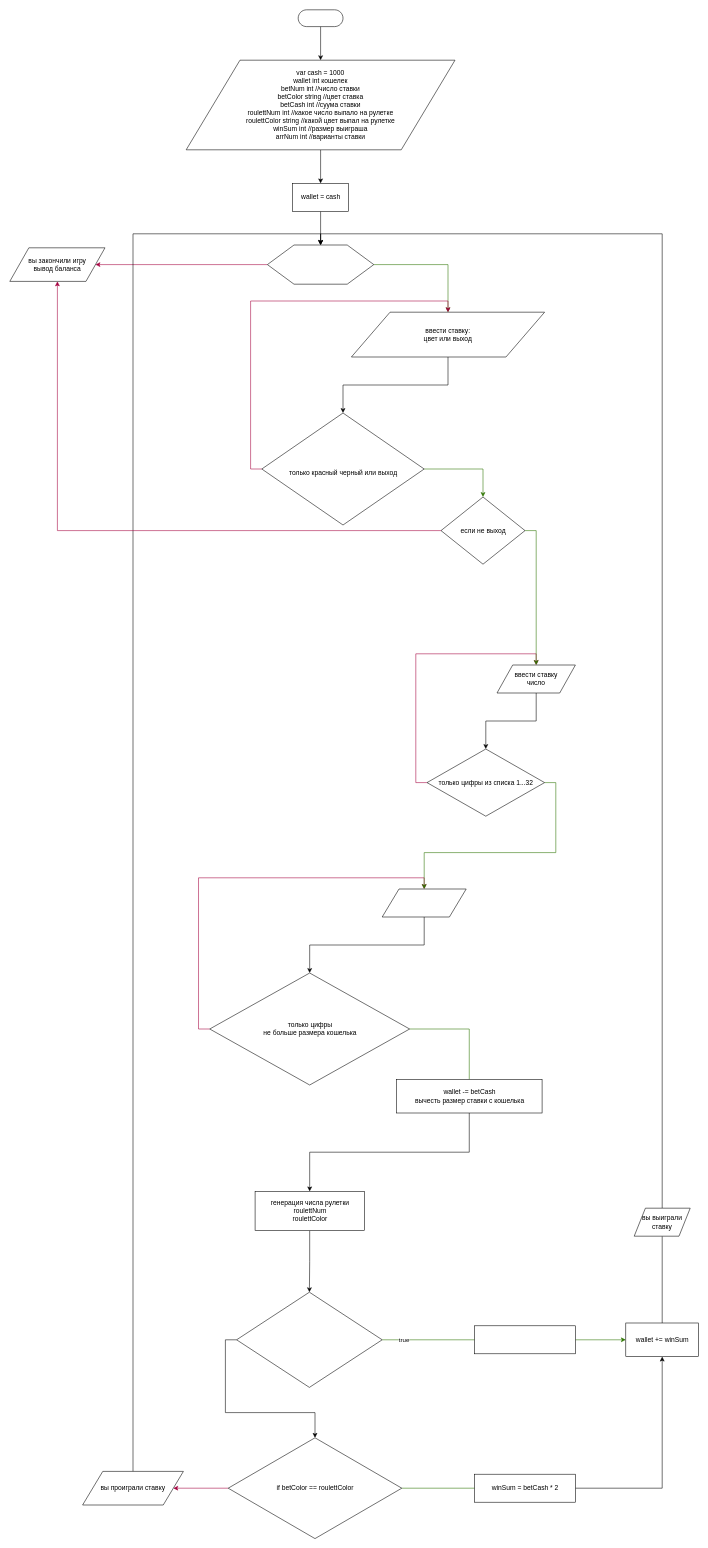
Some shapes in this 708 by 1548 pixel diagram are drawn without their labels. The shapes that lost their labels are listed below. From the top down, each one's centre as x and y in pixels, then its label:
point (320, 18): main
point (320, 264): цикл игры пока игрок не проиграл все деньги if wallet > 0
point (424, 902): betCash = input
point (309, 1339): проверка выиграша if betNumber == roulettNum
point (524, 1339): winSum = betCash * 10
